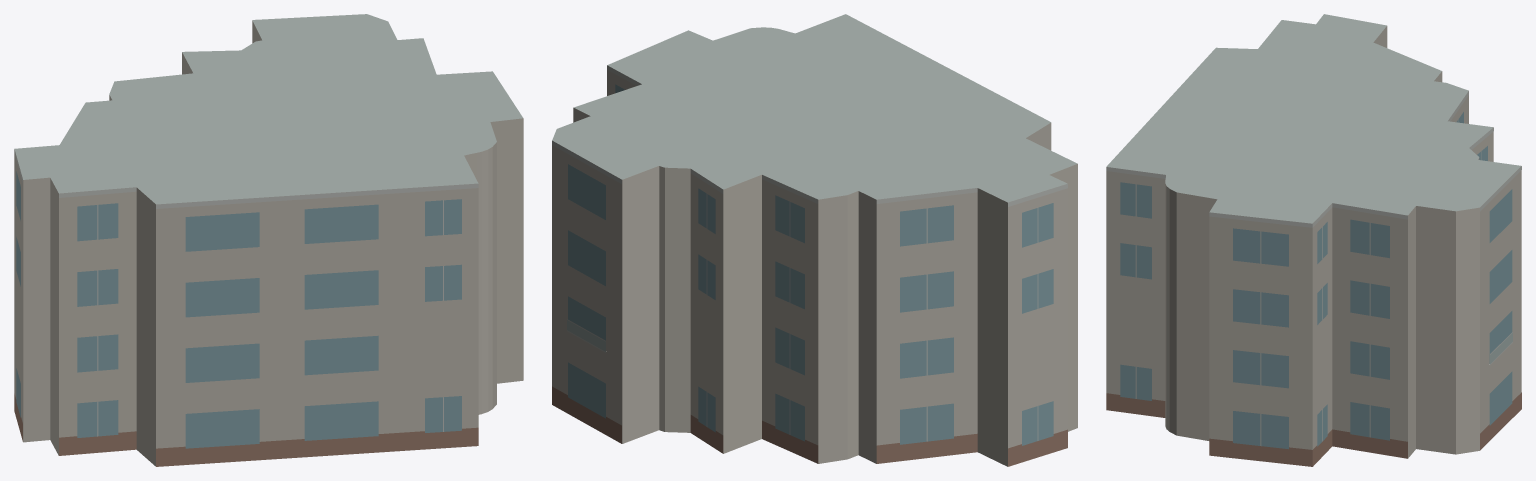
The model's file is survey-upis-32855611.glb.
3 renders of one model, left to right at view 1: azimuth 30°, elevation 25°; view 2: azimuth 150°, elevation 25°; view 3: azimuth 270°, elevation 25°, orthographic. The views are drawn at different scales.
Visible parts, largest first — view 1: survey-upis-32855611.tmp; view 2: survey-upis-32855611.tmp; view 3: survey-upis-32855611.tmp.
Boxes of the visible parts, x1=… form: survey-upis-32855611.tmp: x1=14, y1=14, x2=523, y2=466; survey-upis-32855611.tmp: x1=552, y1=14, x2=1077, y2=466; survey-upis-32855611.tmp: x1=1106, y1=14, x2=1521, y2=466.
Bounding box in the file's own units: 26.26 × 14.2 × 22.
